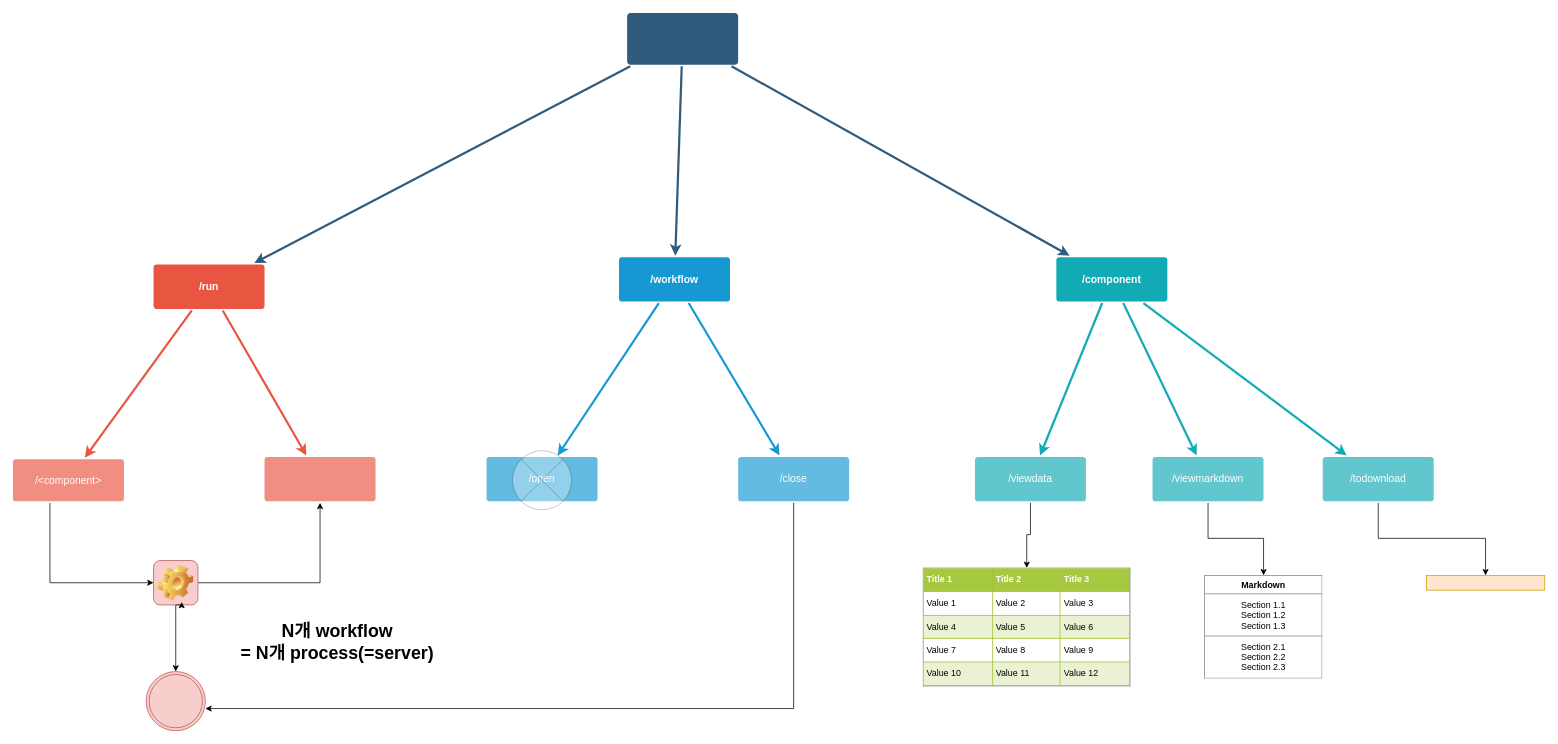
This 1558x744 diagram has some shape labels left out. Each missing label, with the centre of its shape:
"/stop" belongs at (319,479).
"API Caller" belongs at (682,38).
"File" belongs at (1485,582).
"Process" belongs at (175,582).
"Server" belongs at (175,701).
